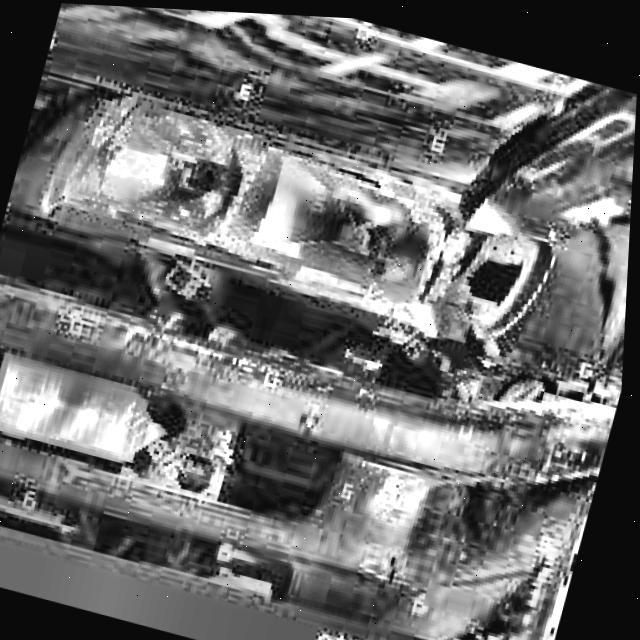head_lamp: (85, 98, 553, 361), (0, 342, 361, 536)
